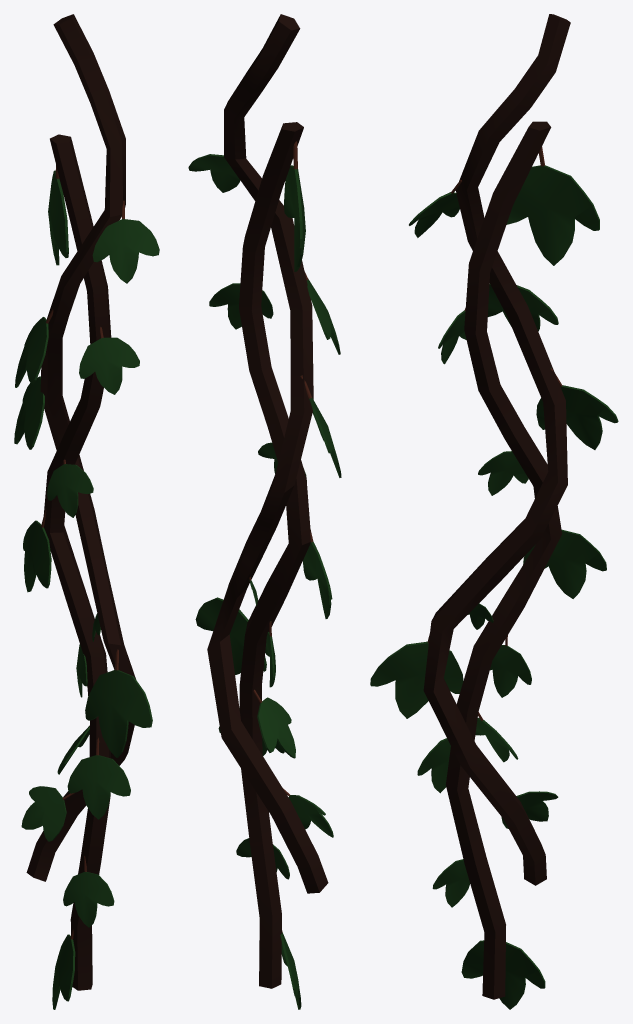
Rendered from vinespolySurface195.fbx.
3 renders of one model, left to right at view 1: azimuth 30°, elevation 25°; view 2: azimuth 210°, elevation 25°; view 3: azimuth 270°, elevation 25°, orthographic. The views are drawn at different scales.
Parts seen in each view (by area): view 1: polySurface195; view 2: polySurface195; view 3: polySurface195.
Boxes of the visible parts, bbox=[...] form: polySurface195: bbox=[14, 14, 159, 1009]; polySurface195: bbox=[188, 14, 341, 1009]; polySurface195: bbox=[370, 14, 618, 1009].
Bounding box in the file's own units: 0.2189 × 2.06 × 0.4572.
